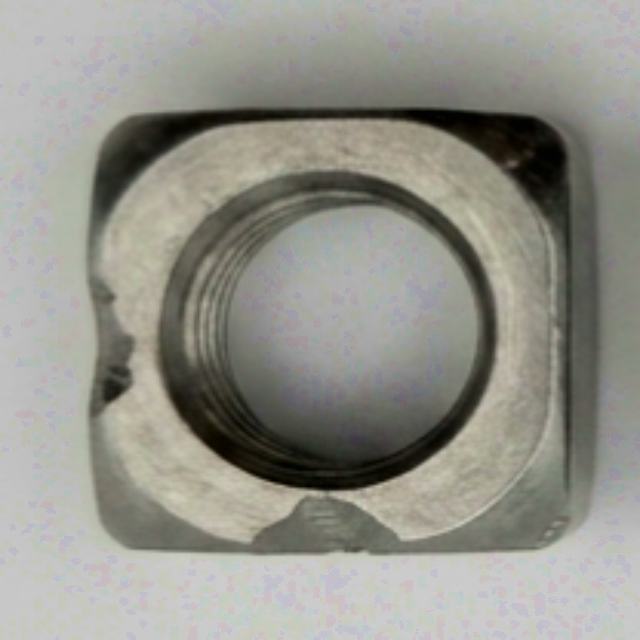defect: (248, 495, 408, 555), (81, 271, 142, 420)
